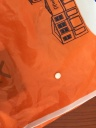Yuvarlak Buskopan: (54, 72, 62, 79)
